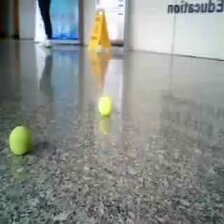tennis: (9, 126, 33, 156), (98, 98, 112, 116)
